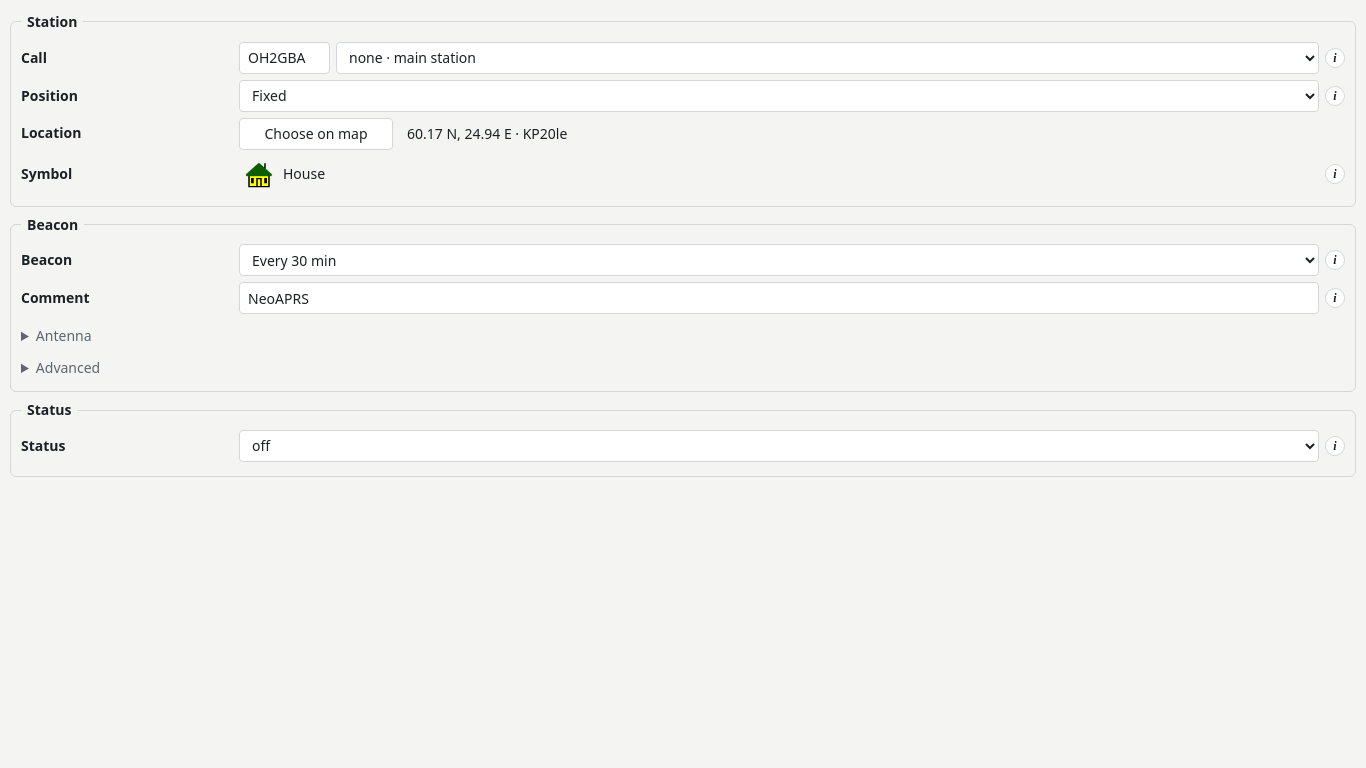
Test: SettingsForm › typed fields › go back to what is in force on Esc, with the reason gone
Click the button with class "location-place".
click(487, 133)  # box [403, 121, 1345, 146]
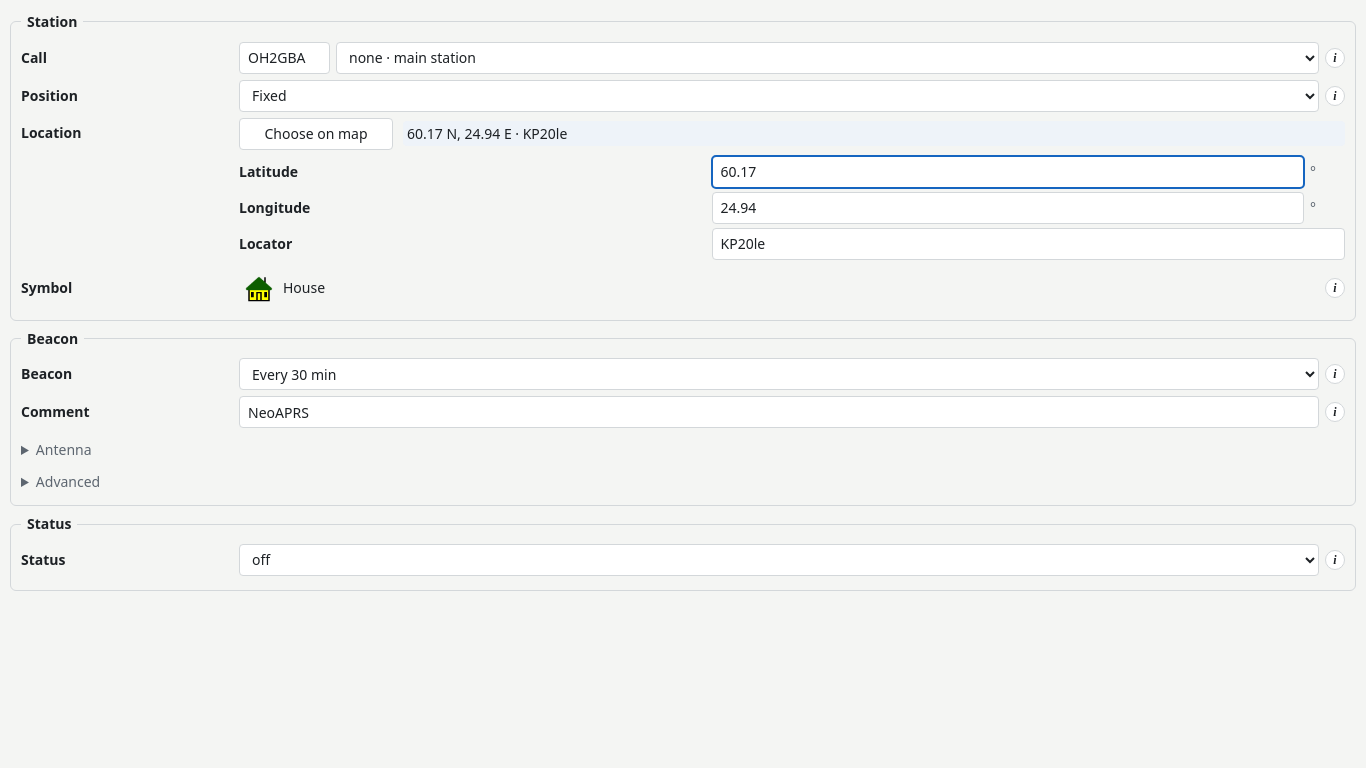
Type "95" into the field with id "set-station-lat".
click(1008, 172); type("95")  # box [712, 156, 1304, 188]
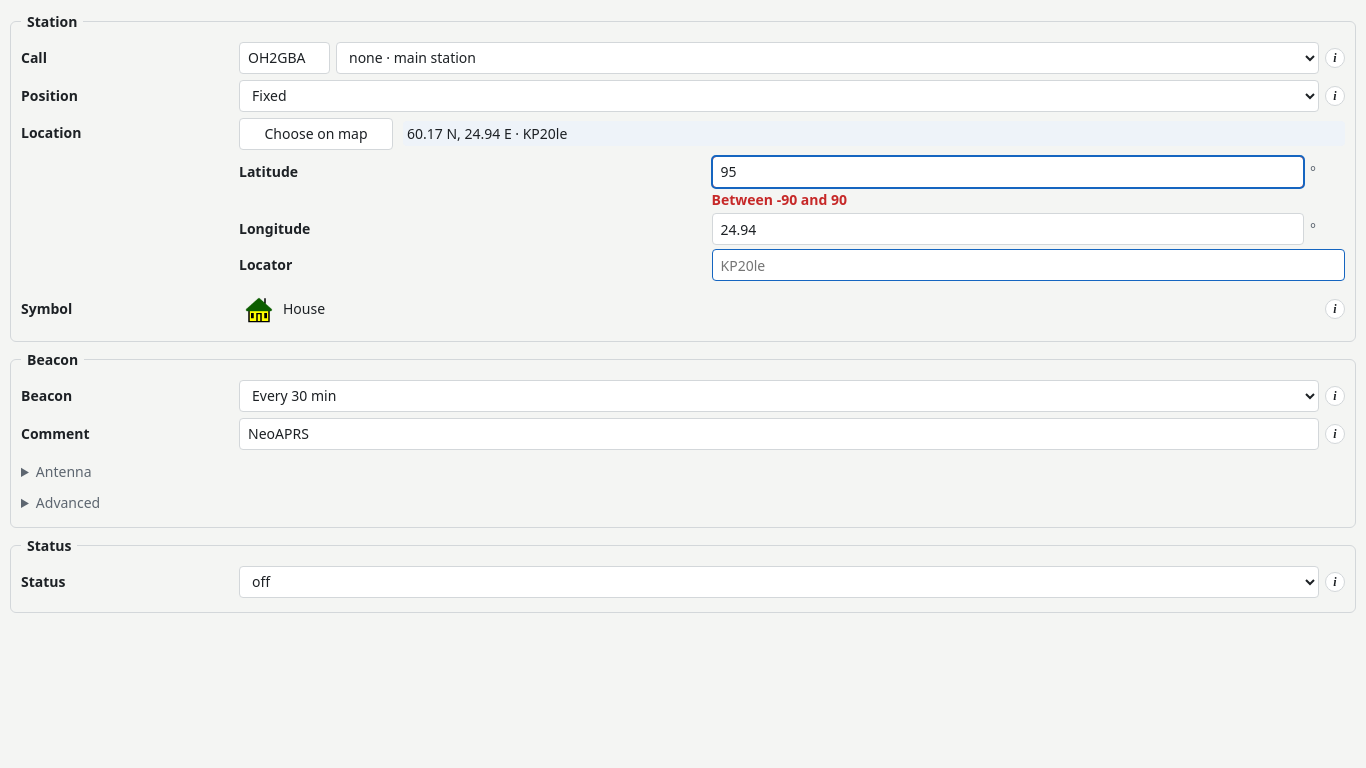
Press Escape in the field with id "set-station-lat", box [712, 156, 1304, 188]
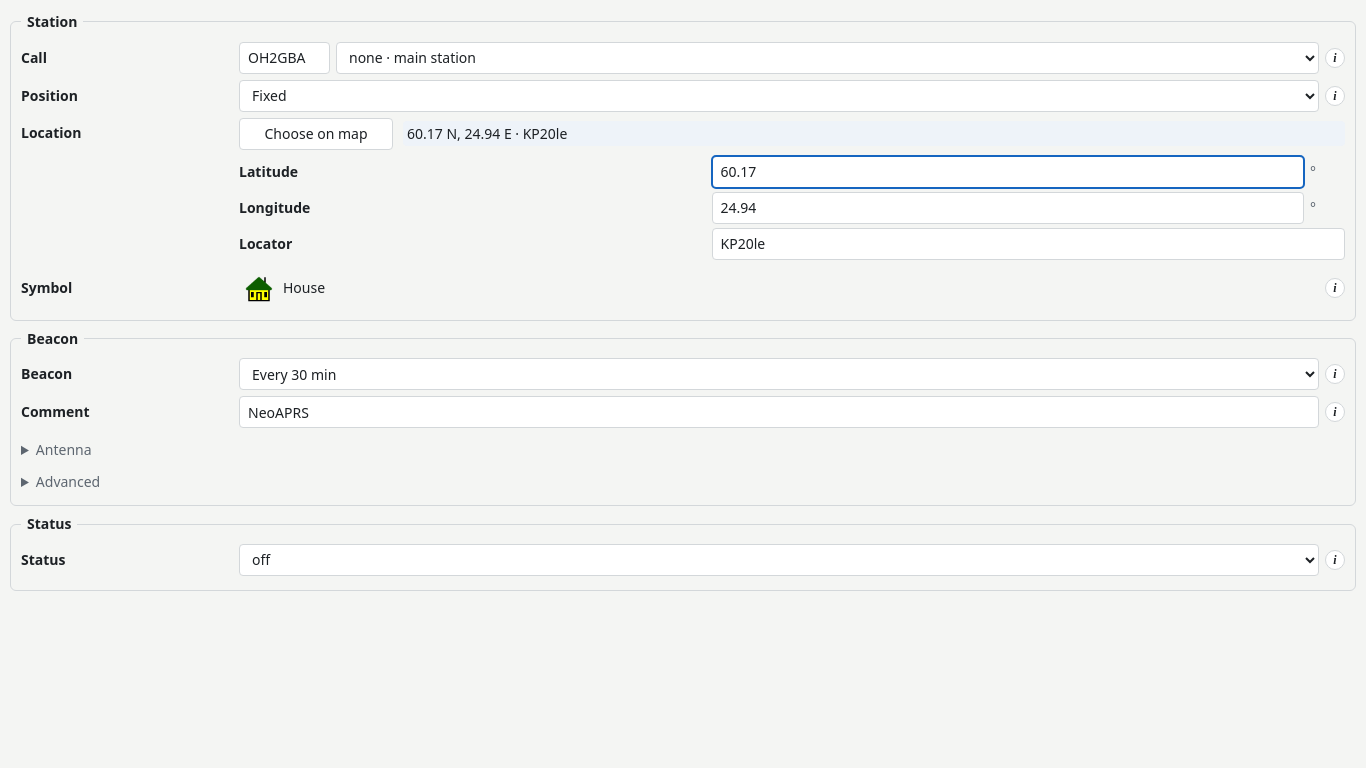
expect the field with id "set-station-lat" holds "60.17": met, box [712, 156, 1304, 188]
Type "typing" into the field with id "set-station-comment".
click(779, 412); type("typing")  # box [239, 396, 1319, 428]
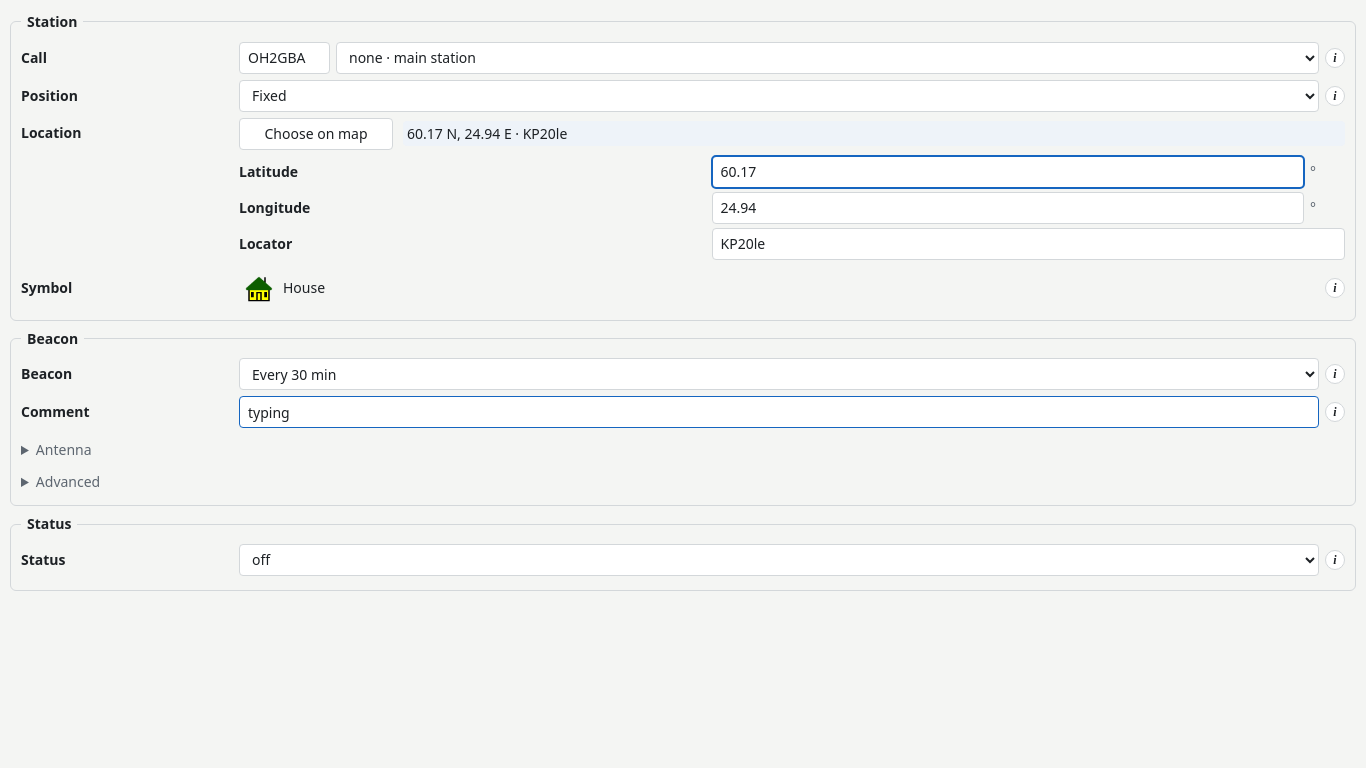
Press Escape in the field with id "set-station-comment", box [239, 396, 1319, 428]
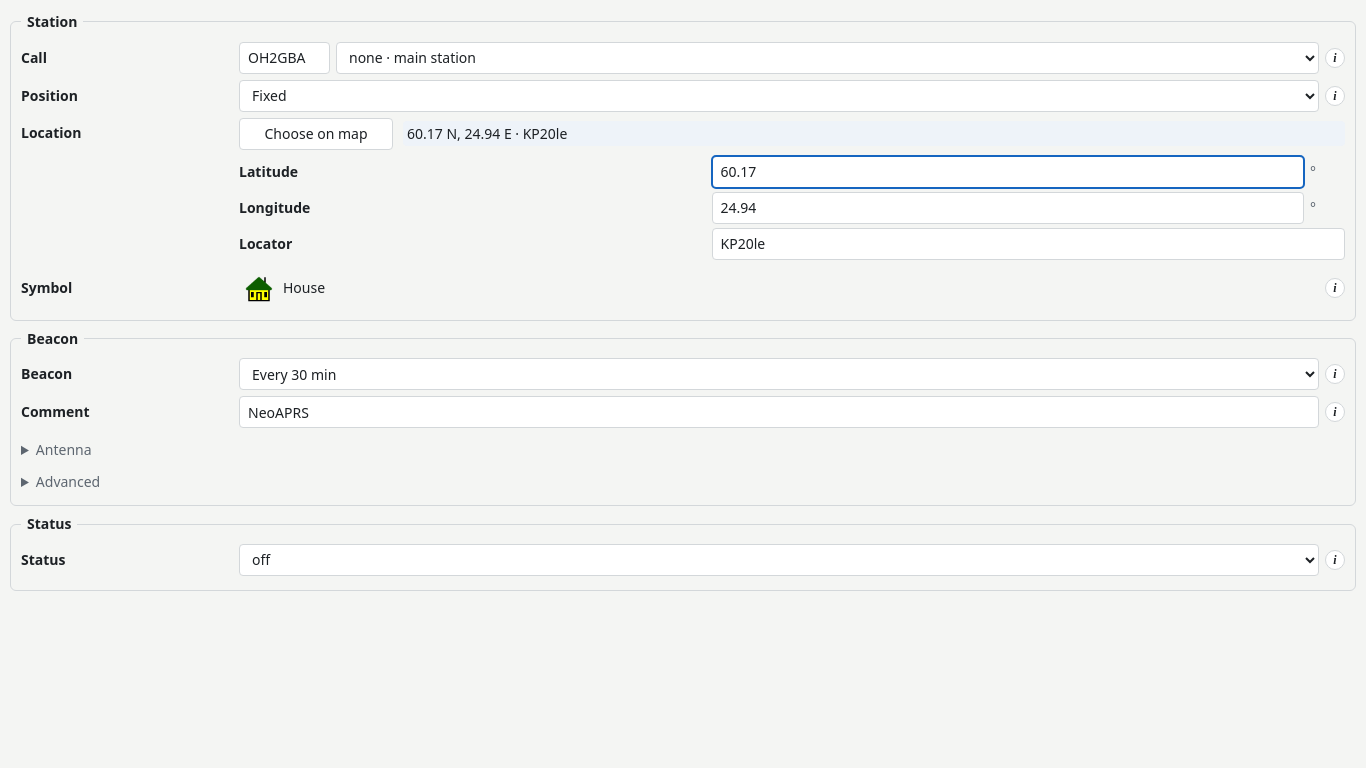
expect the field with id "set-station-comment" holds "NeoAPRS": met, box [239, 396, 1319, 428]
